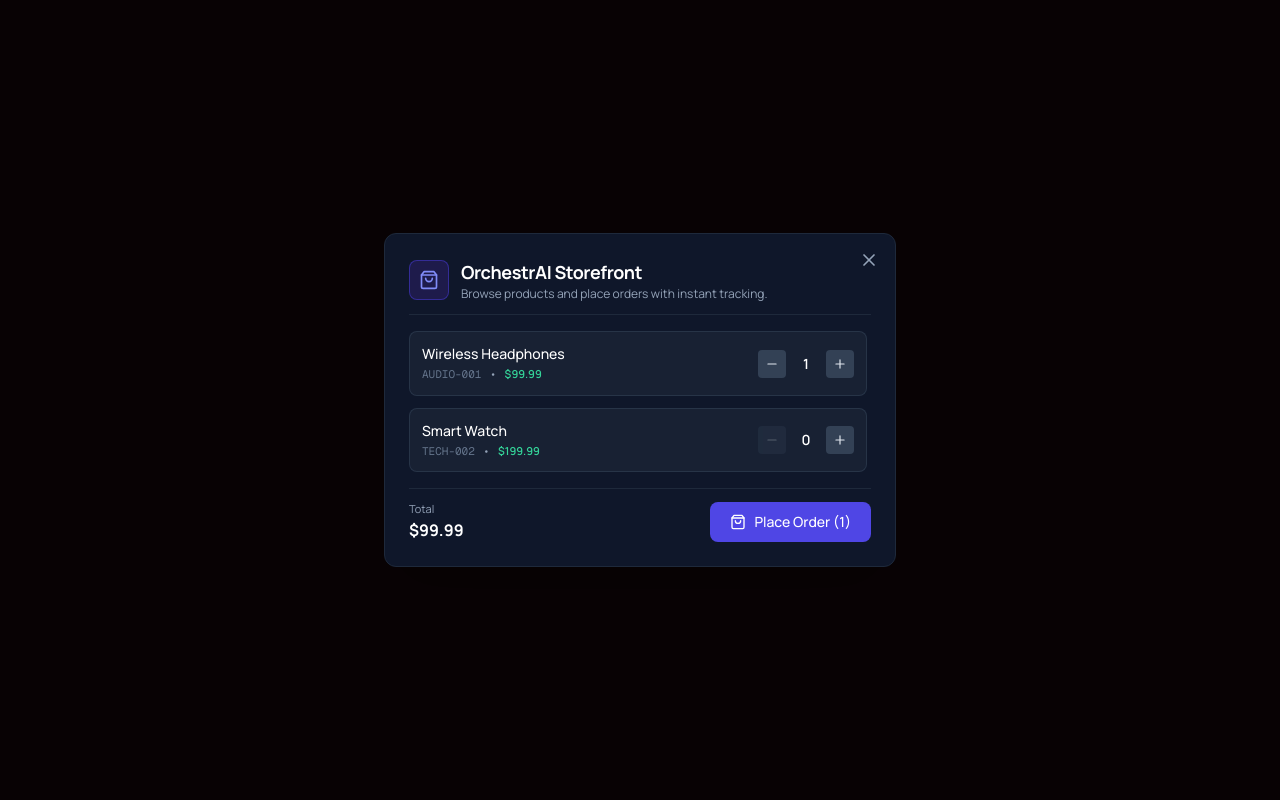
Scenario: StorefrontModal › adjusts quantity and updates cart total
The image size is (1280, 800).
Check: the text "Wireless Headphones" is shown, box x1=422 y1=344 x2=565 y2=364
Check: the text with test id "cart-total" reads "$99.99", box x1=409 y1=518 x2=464 y2=542
Note: Increase qty for item 2
Click the button with test id "qty-plus-prod-2" at (840, 440), box x1=826 y1=426 x2=854 y2=454
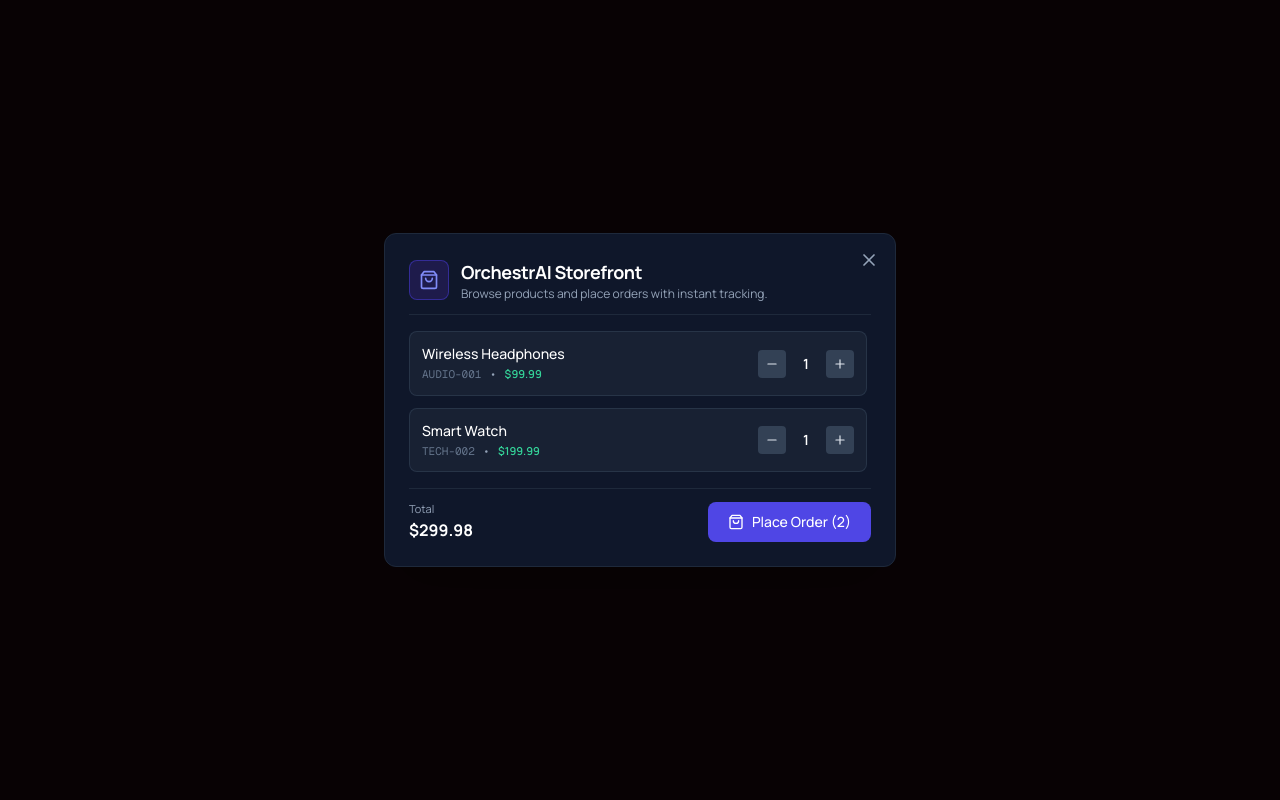
Check: the text with test id "qty-val-prod-2" reads "1", box x1=803 y1=430 x2=809 y2=449
Check: the text with test id "cart-total" reads "$299.98", box x1=409 y1=518 x2=473 y2=542
